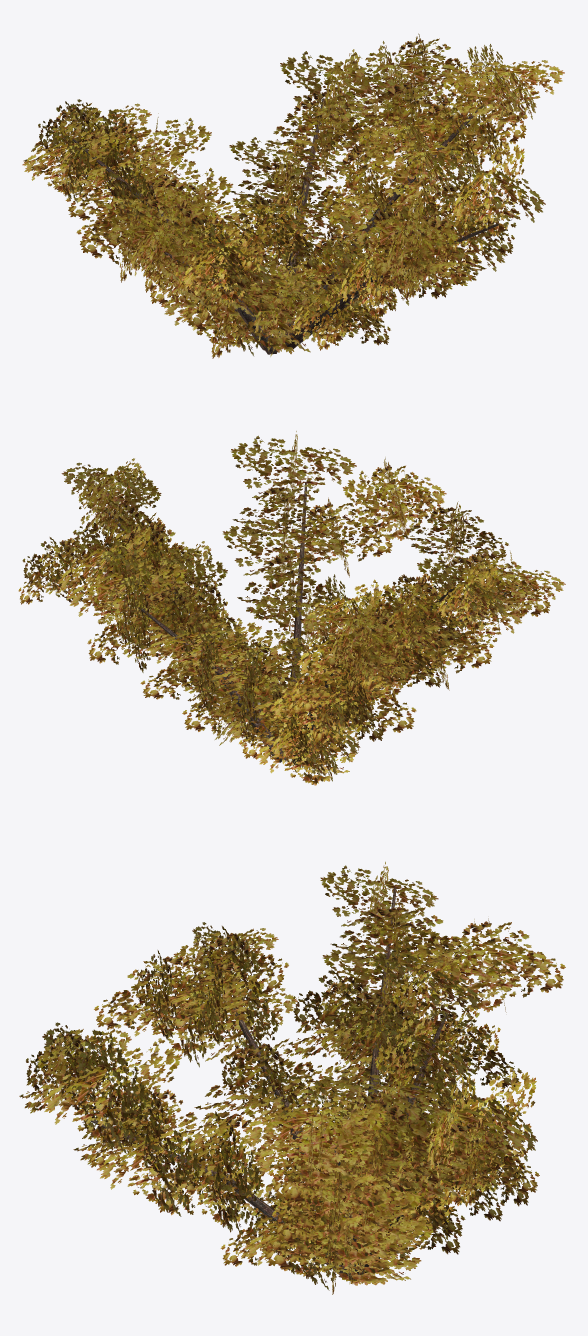
The model's file is bush_3d_02_yellow_lod1.glb.
3 renders of one model, top to bottom at view 1: azimuth 30°, elevation 25°; view 2: azimuth 150°, elevation 25°; view 3: azimuth 270°, elevation 25°, orthographic. The views are drawn at different scales.
Parts seen in each view (by area): view 1: foliage_cards, wood_geometry; view 2: foliage_cards, wood_geometry; view 3: foliage_cards, wood_geometry.
Part boxes in pixels (bbox=[...]): foliage_cards: bbox=[22, 33, 564, 358]; wood_geometry: bbox=[72, 96, 498, 354]; foliage_cards: bbox=[18, 431, 565, 785]; wood_geometry: bbox=[108, 482, 518, 765]; foliage_cards: bbox=[19, 861, 565, 1294]; wood_geometry: bbox=[87, 887, 487, 1281].
Size of the model in its own units: 3.06 by 1.47 by 2.46.
2 materials, 2 textured.
